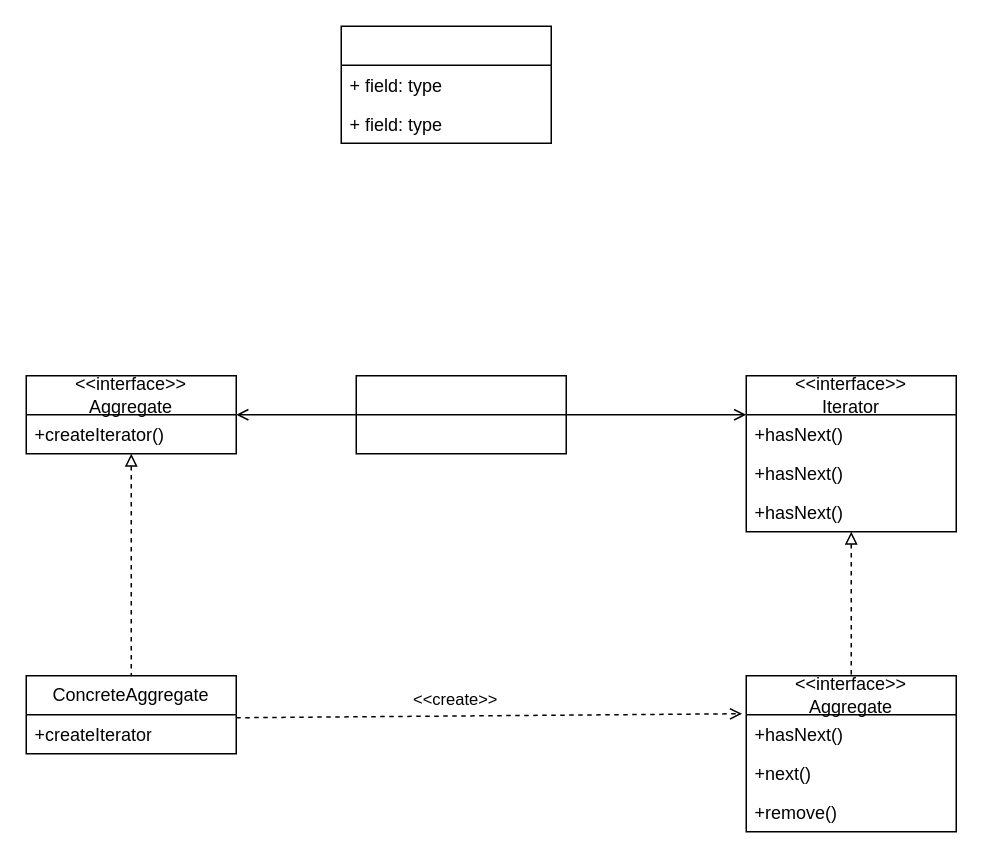
Image size: 983x863. Some labels were removed from this diagram. Here are the shapes that lost their labels. From the top down, the box of each, then its label:
(340, 25, 551, 143): Classname
(355, 374, 566, 454): Client
